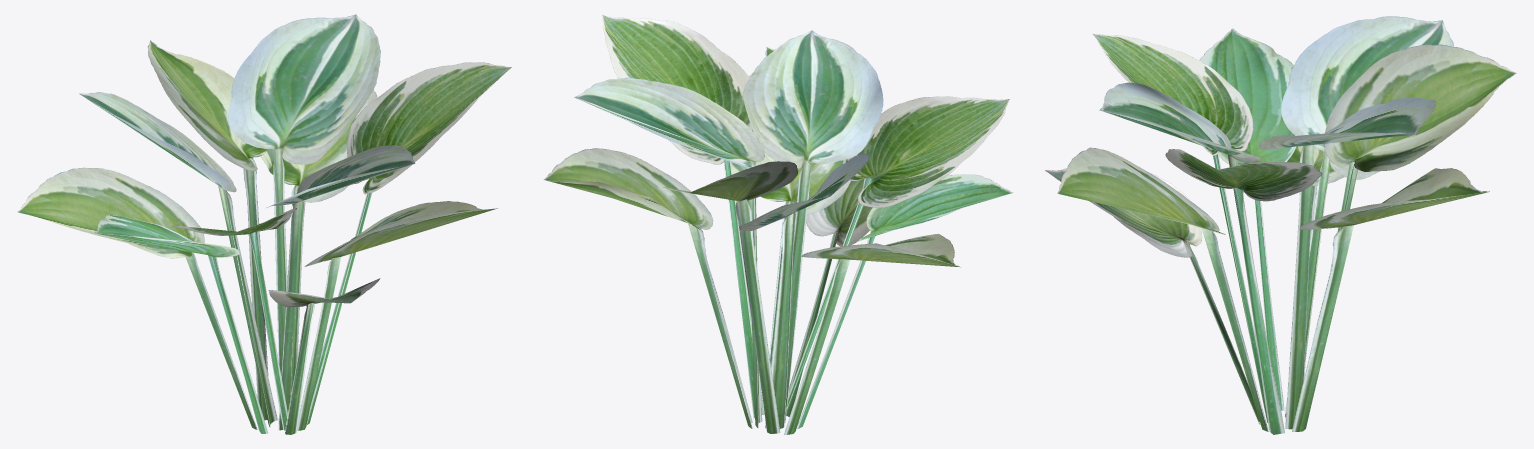
The model's file is plant_small_wg_00G2_wild.fbx.
The picture shows the model from 3 angles, left to right: view 1: azimuth 30°, elevation 25°; view 2: azimuth 150°, elevation 25°; view 3: azimuth 270°, elevation 25°; orthographic projection. The views are drawn at different scales.
Visible parts, largest first — view 1: plant_small_wg_00G_wild; view 2: plant_small_wg_00G_wild; view 3: plant_small_wg_00G_wild.
Part boxes in pixels (x1,y1,x2,y2): plant_small_wg_00G_wild: (17,14,511,434); plant_small_wg_00G_wild: (543,15,1013,434); plant_small_wg_00G_wild: (1045,16,1516,434).
Size of the model in its own units: 63.78 by 47.8 by 57.01.
